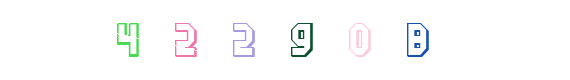0: (264, 0, 344, 80)
2: (147, 0, 227, 80), (228, 0, 308, 80)
4: (103, 0, 183, 80)
B: (378, 0, 458, 80)
G: (245, 0, 325, 80)
